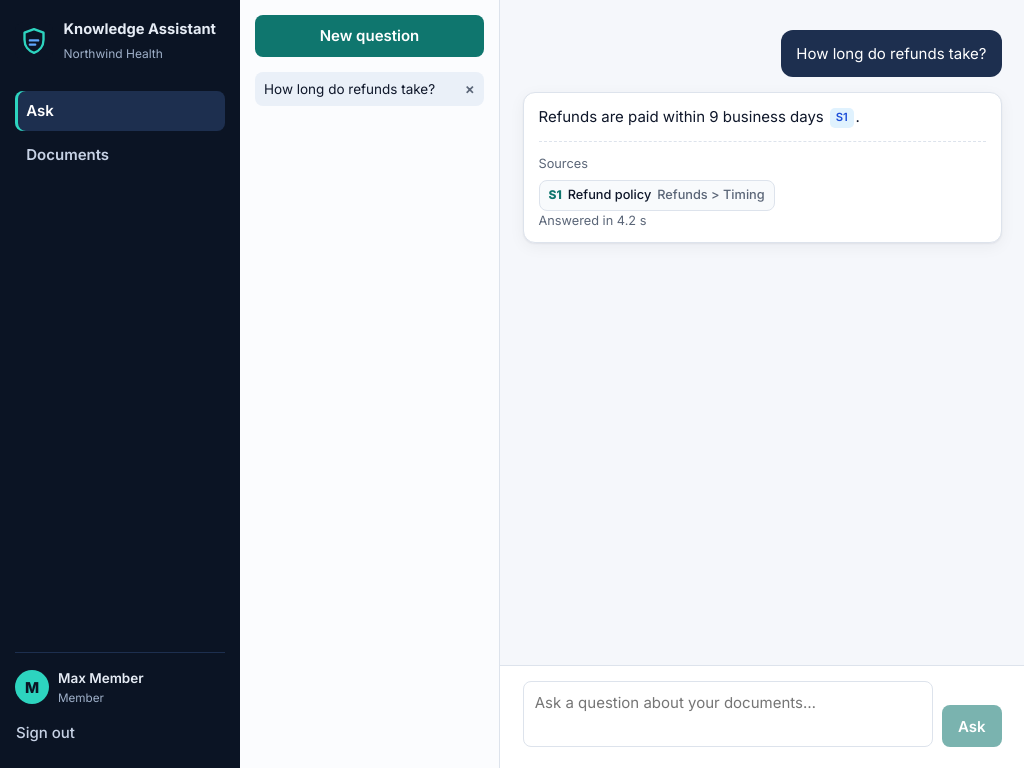
Test: chat › explains when the passage is no longer available
This screenshot has width=1024, height=768.
Click the button "S1 Refund policy Refunds > Timing" at (657, 195), box top-left (538, 180), bottom-right (775, 211)
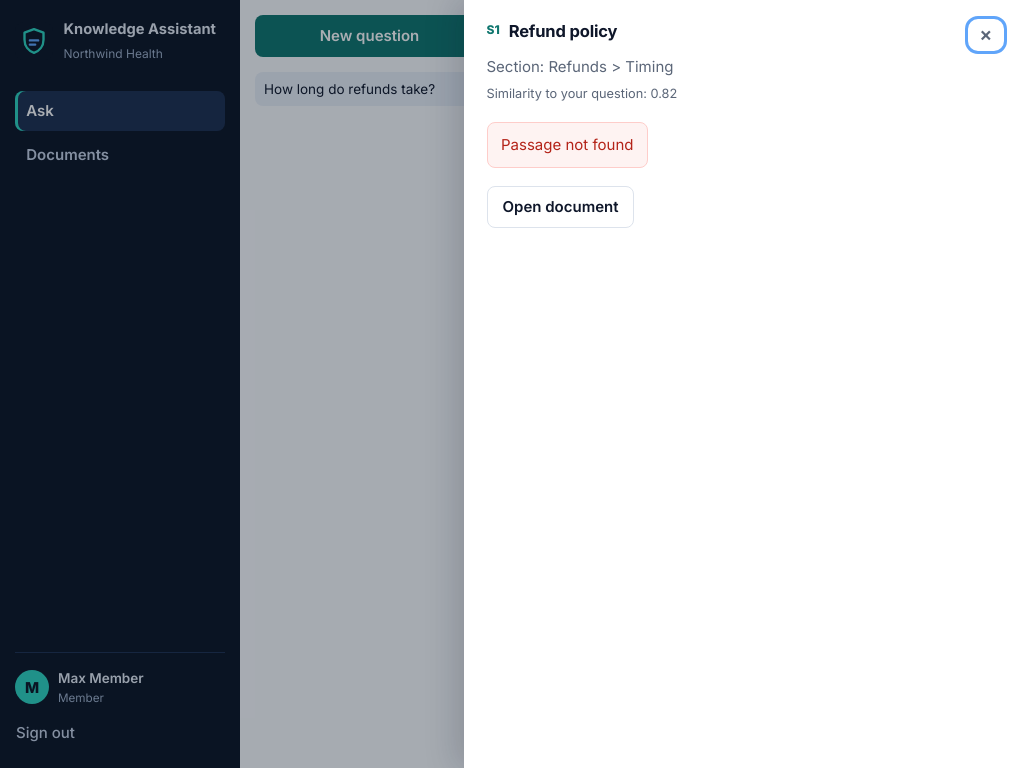
Expected: the message reads "Passage not found", top-left (501, 135), bottom-right (633, 154)
